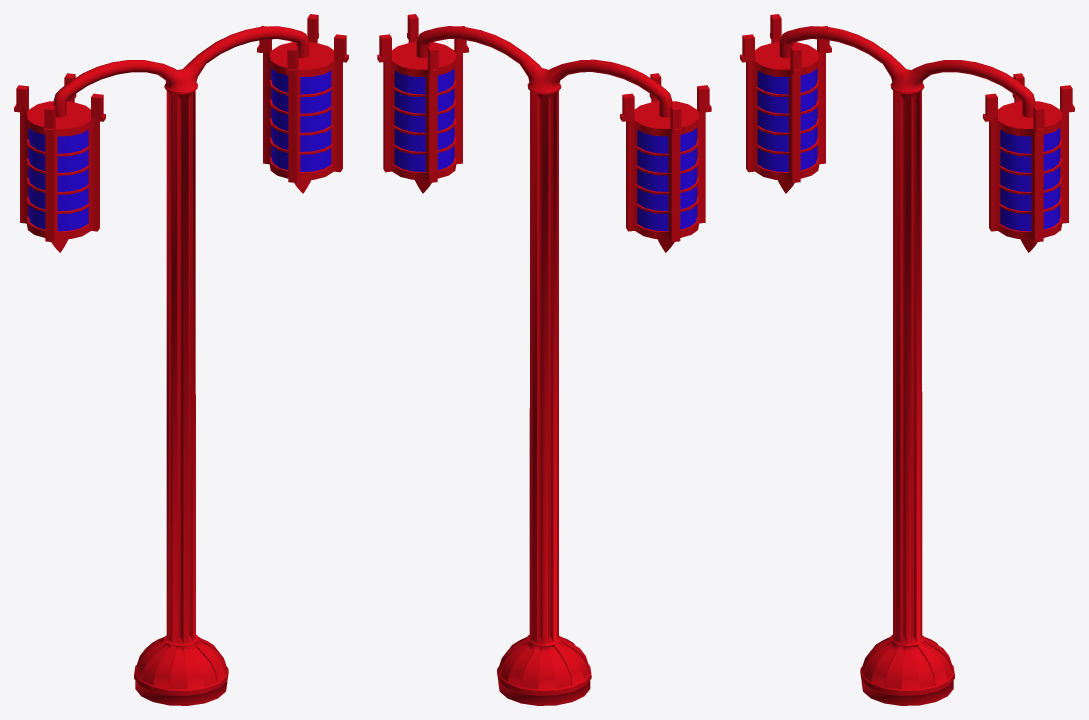
Rendered from Streetlight.fbx.
3 renders of one model, left to right at view 1: azimuth 30°, elevation 25°; view 2: azimuth 150°, elevation 25°; view 3: azimuth 330°, elevation 25°, orthographic.
Parts seen in each view (by area): view 1: StreetLamp; view 2: StreetLamp; view 3: StreetLamp.
Part boxes in pixels (x1=…): StreetLamp: x1=14, y1=14, x2=348, y2=705; StreetLamp: x1=377, y1=14, x2=711, y2=705; StreetLamp: x1=740, y1=14, x2=1074, y2=705.
Bounding box in the file's own units: 276 × 555 × 74.85.
